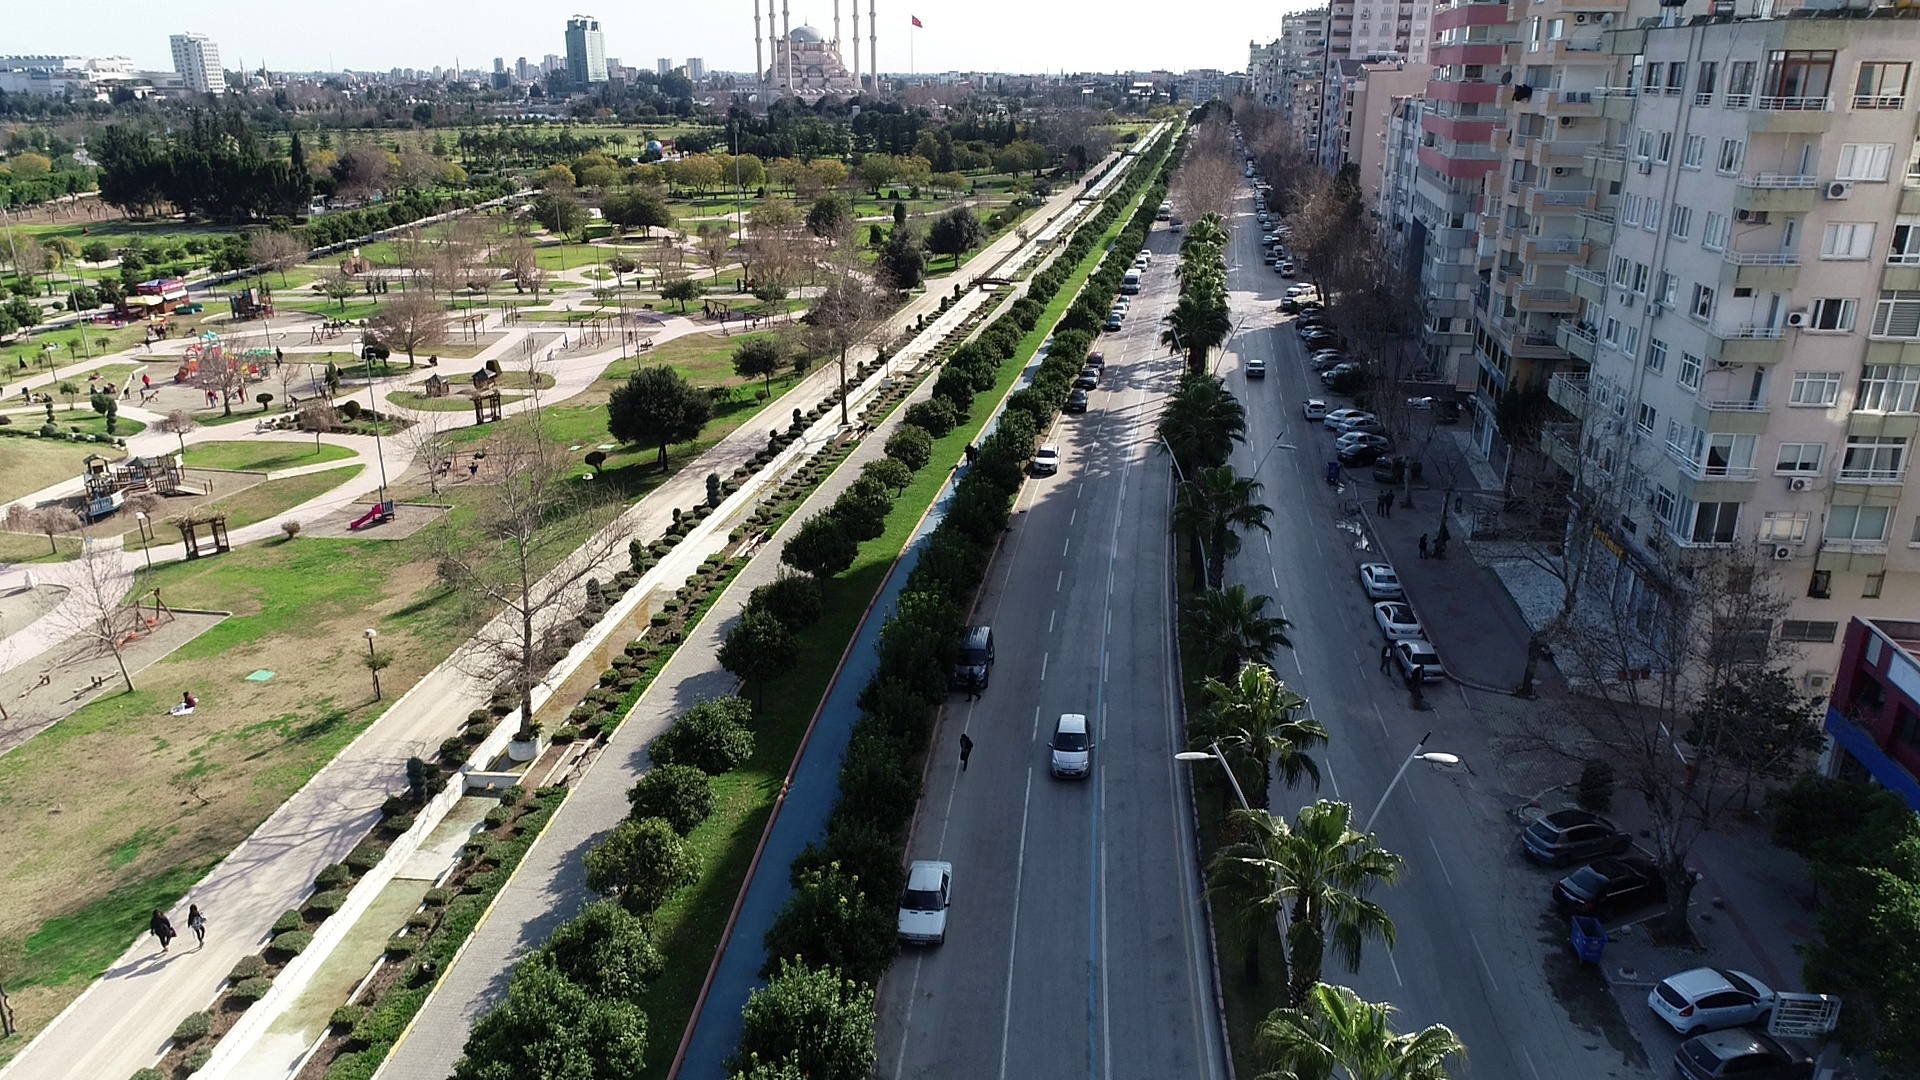car: (1643, 964, 1796, 1029), (1502, 804, 1641, 867), (1551, 859, 1682, 919), (1674, 1023, 1808, 1080), (890, 853, 953, 953), (1037, 712, 1098, 788), (941, 627, 998, 694), (1366, 596, 1425, 645), (1396, 635, 1453, 680), (1355, 559, 1414, 600), (1029, 439, 1068, 478)
person: (143, 902, 176, 963), (188, 900, 217, 957), (957, 723, 982, 778), (1435, 523, 1461, 561), (172, 676, 192, 719), (1417, 525, 1437, 566), (1370, 490, 1392, 525), (1382, 492, 1408, 519)
